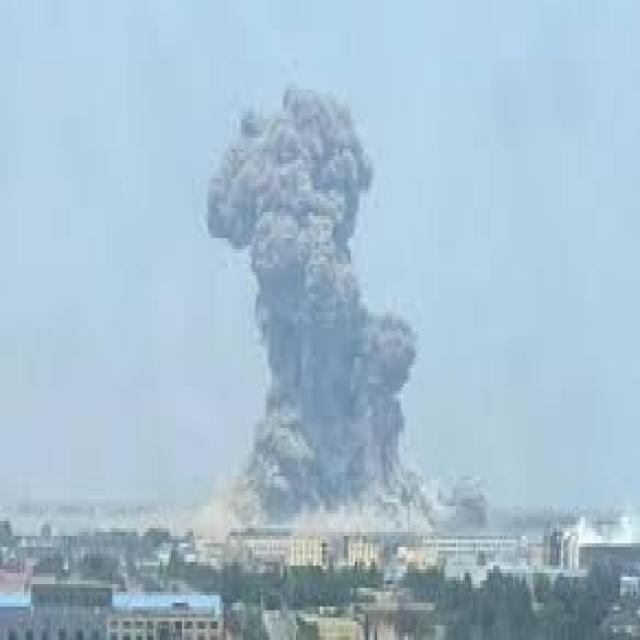explosion: (196, 71, 513, 637)
